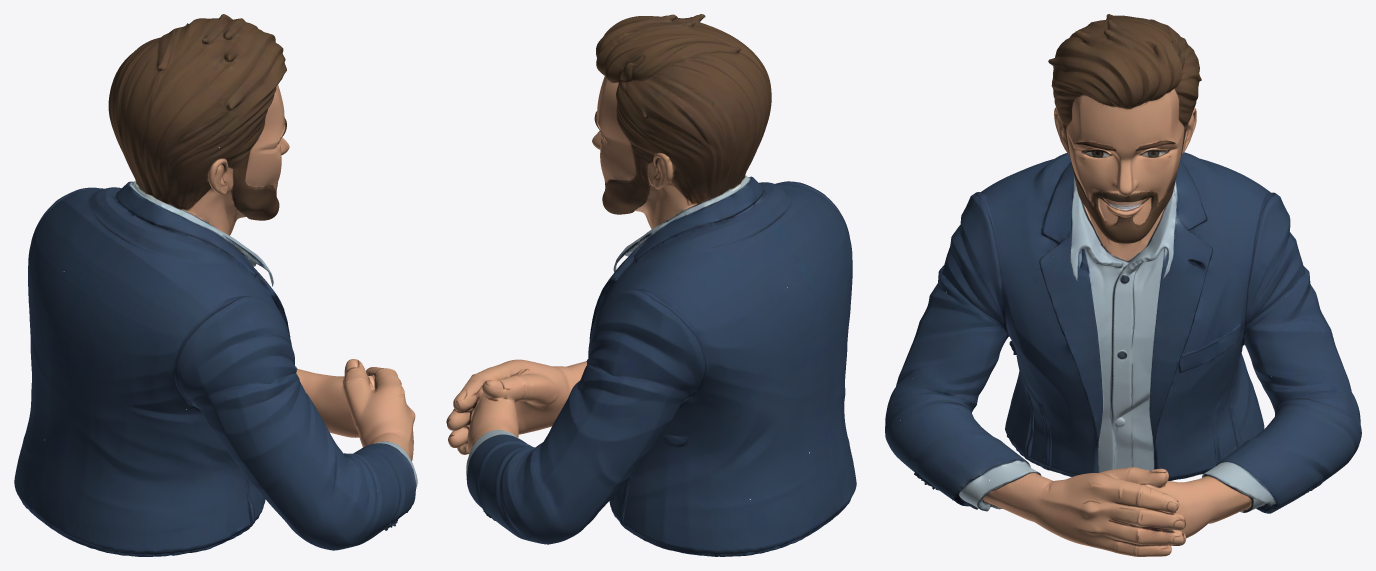
The model's file is avatar.glb.
The picture shows the model from 3 angles, left to right: view 1: azimuth 30°, elevation 25°; view 2: azimuth 150°, elevation 25°; view 3: azimuth 270°, elevation 25°; orthographic projection. The views are drawn at different scales.
Visible parts, largest first — view 1: tripo_node_2cf1d89a-3b9d-4f7b-9770-fa7a2faa4c14; view 2: tripo_node_2cf1d89a-3b9d-4f7b-9770-fa7a2faa4c14; view 3: tripo_node_2cf1d89a-3b9d-4f7b-9770-fa7a2faa4c14.
Boxes of the visible parts, x1,y1,x2,y2 form: tripo_node_2cf1d89a-3b9d-4f7b-9770-fa7a2faa4c14: [14, 14, 417, 556]; tripo_node_2cf1d89a-3b9d-4f7b-9770-fa7a2faa4c14: [446, 14, 856, 556]; tripo_node_2cf1d89a-3b9d-4f7b-9770-fa7a2faa4c14: [885, 14, 1361, 556].
Bounding box in the file's own units: 0.8195 × 0.9969 × 0.9737.
1 material, 1 textured.
